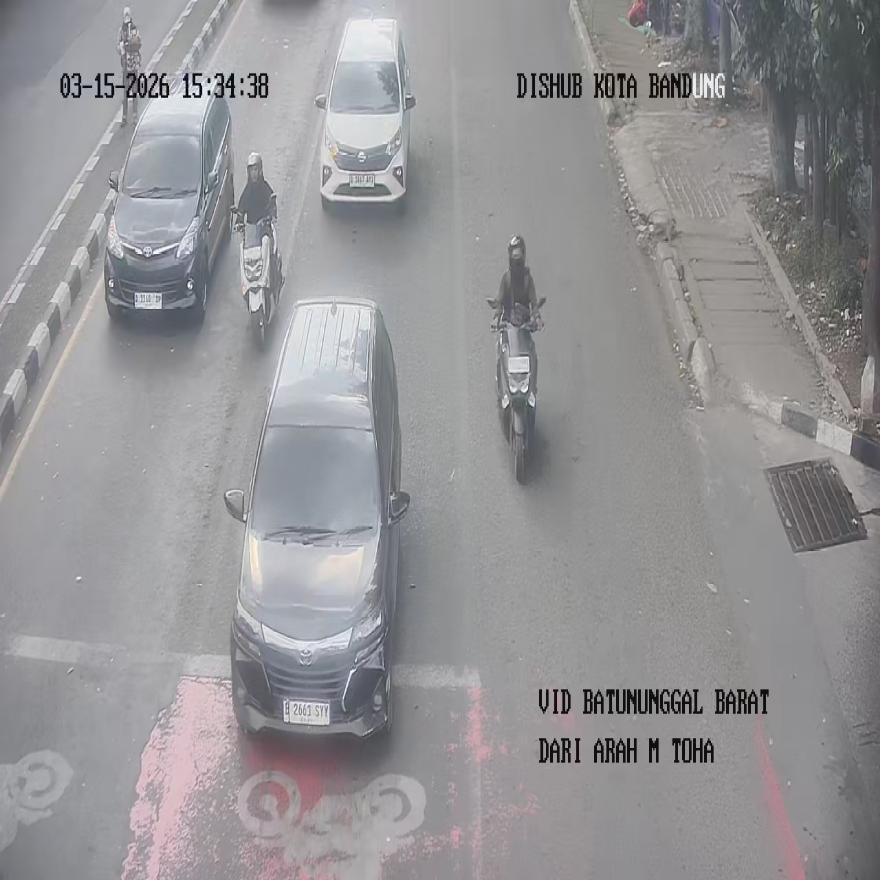Mobil: (224, 297, 409, 739), (104, 75, 234, 320), (316, 15, 416, 204)
Motor: (489, 297, 543, 484), (233, 205, 282, 346), (116, 6, 141, 125)
